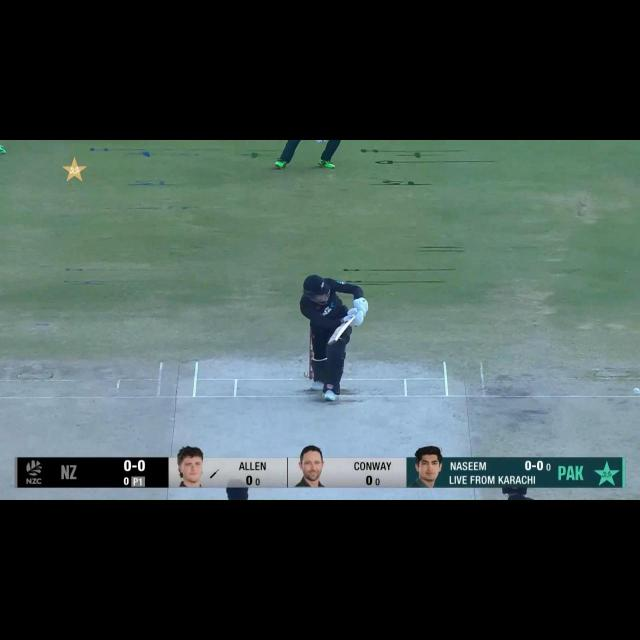bat: (328, 318, 353, 346)
toe: (328, 334, 336, 344)
